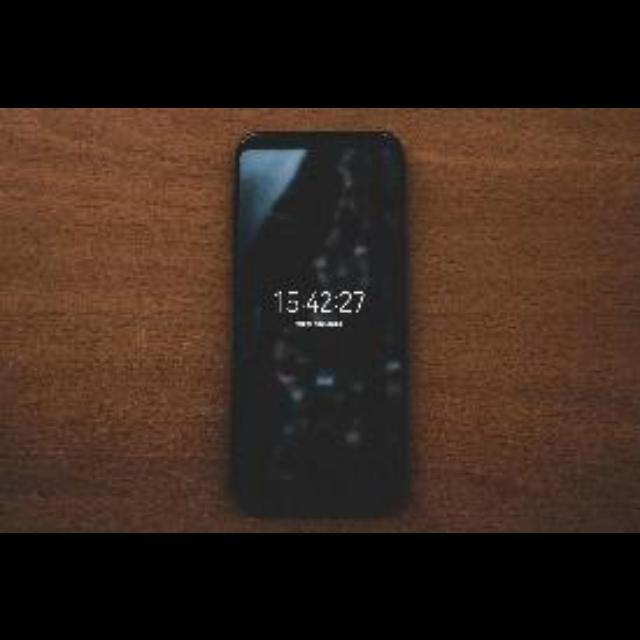Phone: (233, 128, 409, 510)
